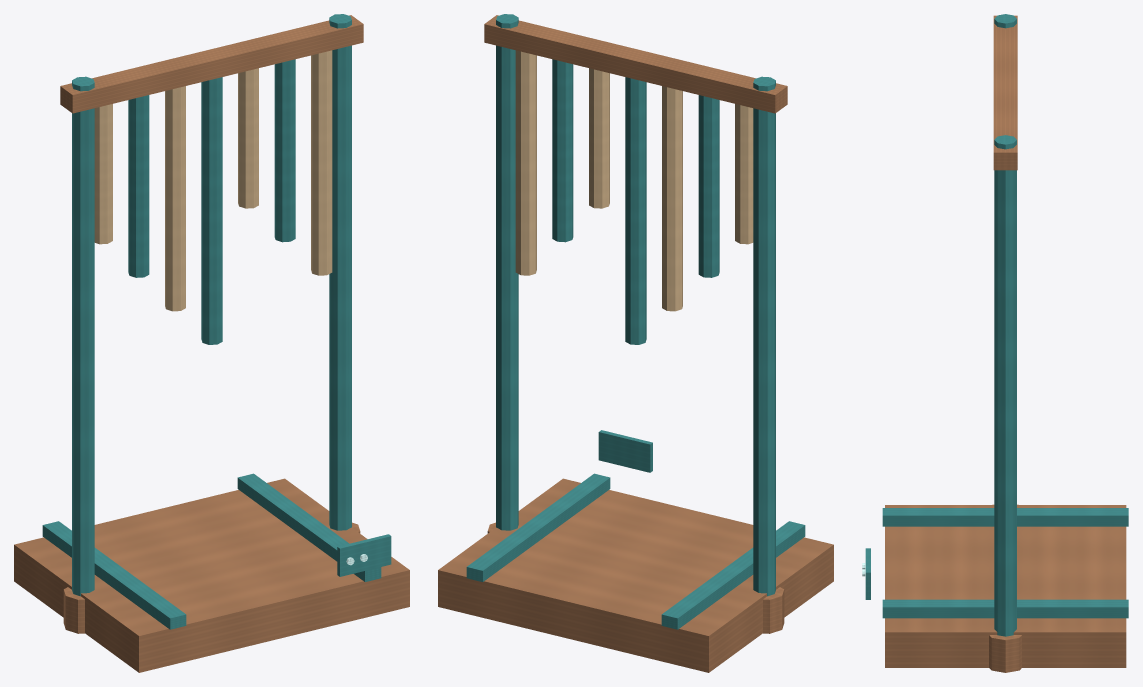
Rendered from atlas100-s093-a01.glb.
3 views of the same model, side by side, from view 1: azimuth 30°, elevation 25°; view 2: azimuth 150°, elevation 25°; view 3: azimuth 270°, elevation 25° (orthographic). The views are drawn at different scales.
Parts seen in each view (by area): view 1: atlas100-s093-a01:part-000, atlas100-s093-a01:part-003, atlas100-s093-a01:part-005, atlas100-s093-a01:part-007, atlas100-s093-a01:part-011, atlas100-s093-a01:part-014, atlas100-s093-a01:part-010, atlas100-s093-a01:part-009, atlas100-s093-a01:part-013, atlas100-s093-a01:part-001, atlas100-s093-a01:part-002, atlas100-s093-a01:part-012 (+3 smaller); view 2: atlas100-s093-a01:part-000, atlas100-s093-a01:part-003, atlas100-s093-a01:part-005, atlas100-s093-a01:part-007, atlas100-s093-a01:part-011, atlas100-s093-a01:part-014, atlas100-s093-a01:part-010, atlas100-s093-a01:part-009, atlas100-s093-a01:part-013, atlas100-s093-a01:part-002, atlas100-s093-a01:part-001, atlas100-s093-a01:part-012 (+3 smaller); view 3: atlas100-s093-a01:part-000, atlas100-s093-a01:part-005, atlas100-s093-a01:part-002, atlas100-s093-a01:part-001, atlas100-s093-a01:part-007, atlas100-s093-a01:part-006.
Boxes of the visible parts, x1,y1,x2,y2 form: atlas100-s093-a01:part-000: [14, 478, 409, 672]; atlas100-s093-a01:part-003: [72, 76, 94, 596]; atlas100-s093-a01:part-005: [329, 14, 351, 530]; atlas100-s093-a01:part-007: [60, 15, 363, 113]; atlas100-s093-a01:part-011: [201, 77, 222, 344]; atlas100-s093-a01:part-014: [311, 50, 332, 275]; atlas100-s093-a01:part-010: [165, 86, 185, 311]; atlas100-s093-a01:part-009: [128, 95, 149, 277]; atlas100-s093-a01:part-013: [274, 59, 295, 242]; atlas100-s093-a01:part-001: [42, 521, 186, 629]; atlas100-s093-a01:part-002: [237, 473, 381, 581]; atlas100-s093-a01:part-012: [238, 68, 258, 208]; atlas100-s093-a01:part-000: [438, 478, 833, 672]; atlas100-s093-a01:part-003: [753, 76, 775, 596]; atlas100-s093-a01:part-005: [496, 14, 518, 530]; atlas100-s093-a01:part-007: [484, 15, 787, 113]; atlas100-s093-a01:part-011: [625, 77, 646, 344]; atlas100-s093-a01:part-014: [515, 50, 536, 275]; atlas100-s093-a01:part-010: [662, 86, 682, 311]; atlas100-s093-a01:part-009: [698, 95, 719, 277]; atlas100-s093-a01:part-013: [552, 59, 573, 242]; atlas100-s093-a01:part-002: [466, 473, 610, 581]; atlas100-s093-a01:part-001: [661, 521, 805, 629]; atlas100-s093-a01:part-012: [589, 68, 609, 208]; atlas100-s093-a01:part-000: [885, 505, 1126, 667]; atlas100-s093-a01:part-005: [994, 135, 1016, 636]; atlas100-s093-a01:part-002: [882, 599, 1128, 618]; atlas100-s093-a01:part-001: [882, 508, 1128, 526]; atlas100-s093-a01:part-007: [993, 15, 1017, 170]; atlas100-s093-a01:part-006: [989, 635, 1021, 672].
Size of the model in its own units: 2.16 by 3.84 by 1.77.
4 materials, 4 textured.
